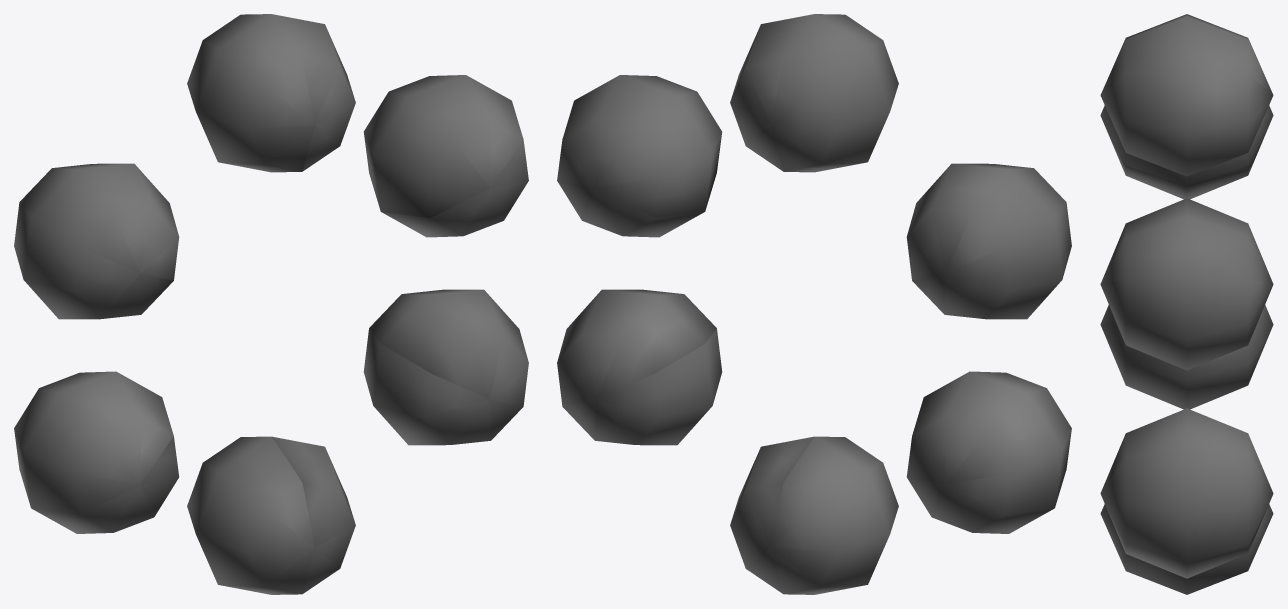
The model's file is pepperbox_shot.obj.
3 renders of one model, left to right at view 1: azimuth 30°, elevation 25°; view 2: azimuth 150°, elevation 25°; view 3: azimuth 270°, elevation 25°, orthographic.
Visible parts, largest first — view 1: shot; view 2: shot; view 3: shot.
Part boxes in pixels (x1=…): shot: x1=14, y1=14, x2=528, y2=594; shot: x1=557, y1=14, x2=1071, y2=594; shot: x1=1100, y1=14, x2=1273, y2=594.
Size of the model in its own units: 1.23 by 1.38 by 0.375.
